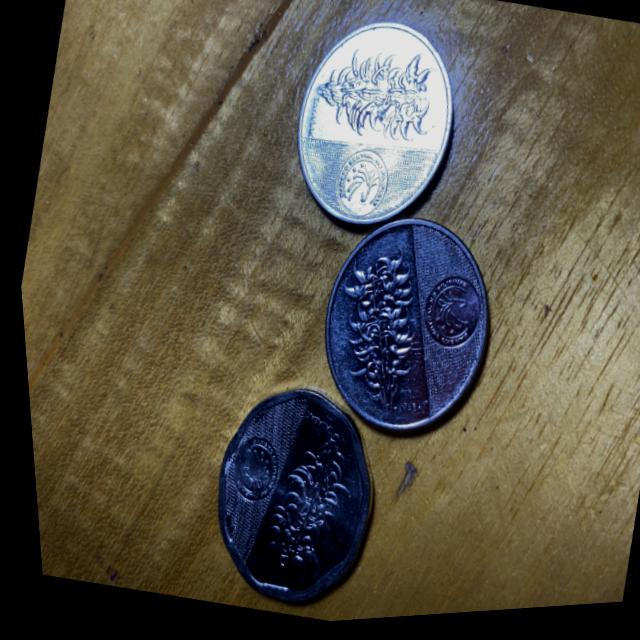5_New_Back: (311, 245, 441, 431), (241, 420, 355, 598), (298, 27, 438, 163)
